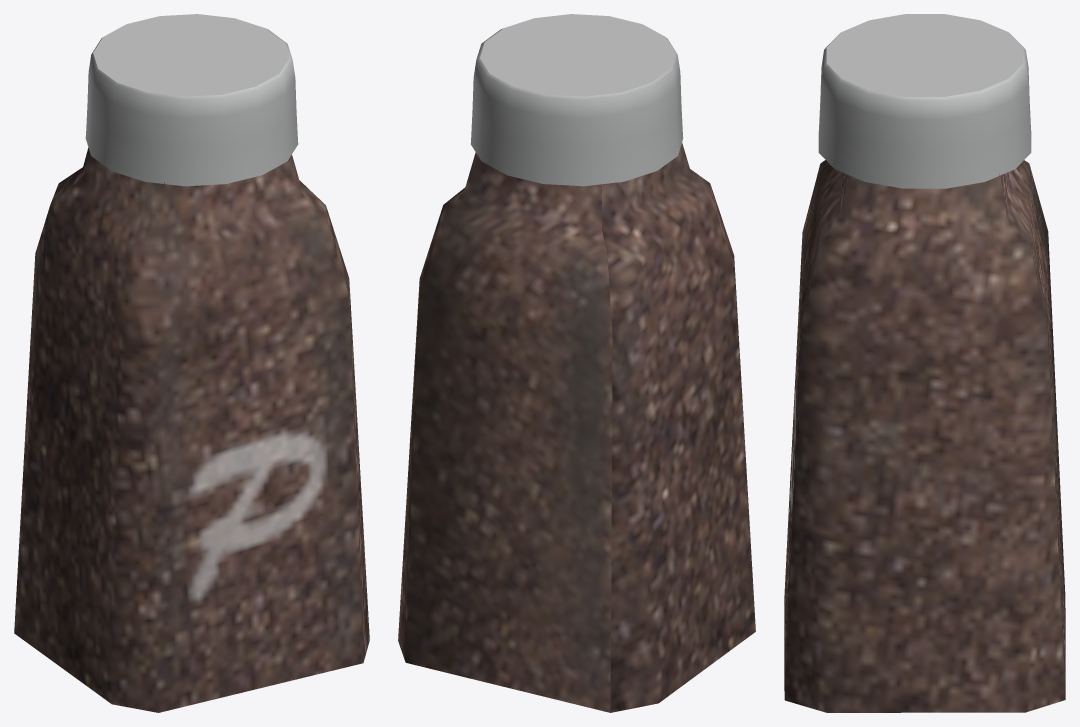
Rendered from Prop_Pepper.fbx.
3 renders of one model, left to right at view 1: azimuth 30°, elevation 25°; view 2: azimuth 150°, elevation 25°; view 3: azimuth 270°, elevation 25°, orthographic.
Visible parts, largest first — view 1: Prop_Pepper; view 2: Prop_Pepper; view 3: Prop_Pepper.
Boxes of the visible parts, box(x1,y1,x2,y2) form: Prop_Pepper: box(14, 14, 369, 712); Prop_Pepper: box(398, 14, 755, 712); Prop_Pepper: box(784, 14, 1065, 712).
Size of the model in its own units: 2.67 by 5.73 by 2.46.
